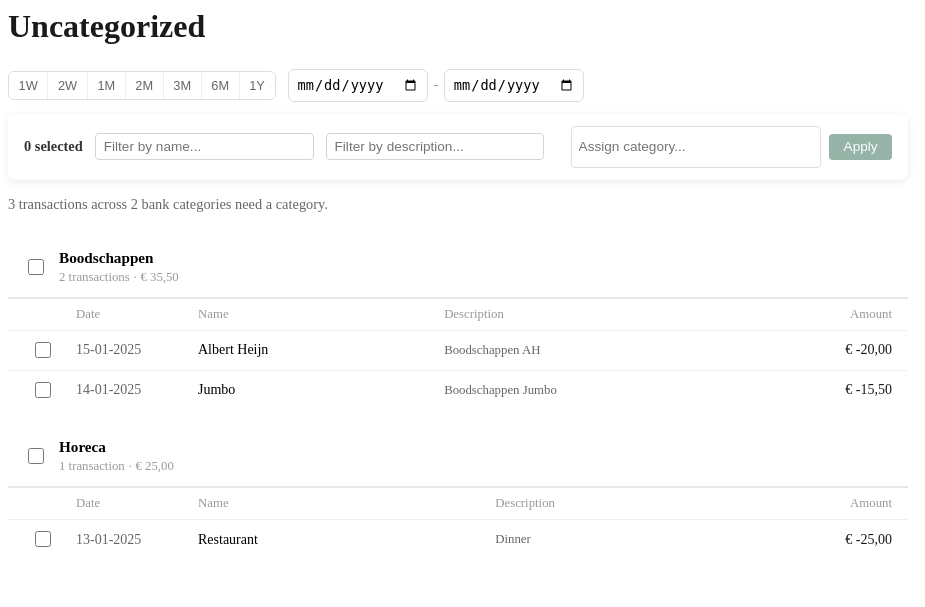
Test: Bank category mapping › does not show the mapping checkbox when selection spans multiple groups
The image size is (925, 607).
Expected: the text "Albert Heijn" is shown, left=182, top=330, right=428, bottom=370
Click the checkbox next to "2 transactions · € 35,50": x=36, y=267 left=28, top=259, right=44, bottom=275
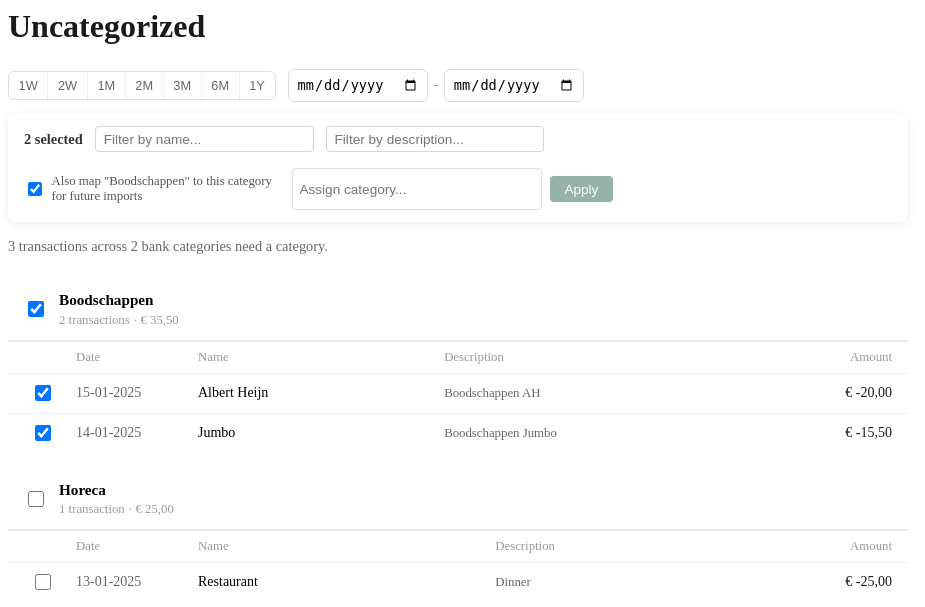
Click the checkbox next to "Horeca": x=36, y=499 left=28, top=491, right=44, bottom=507
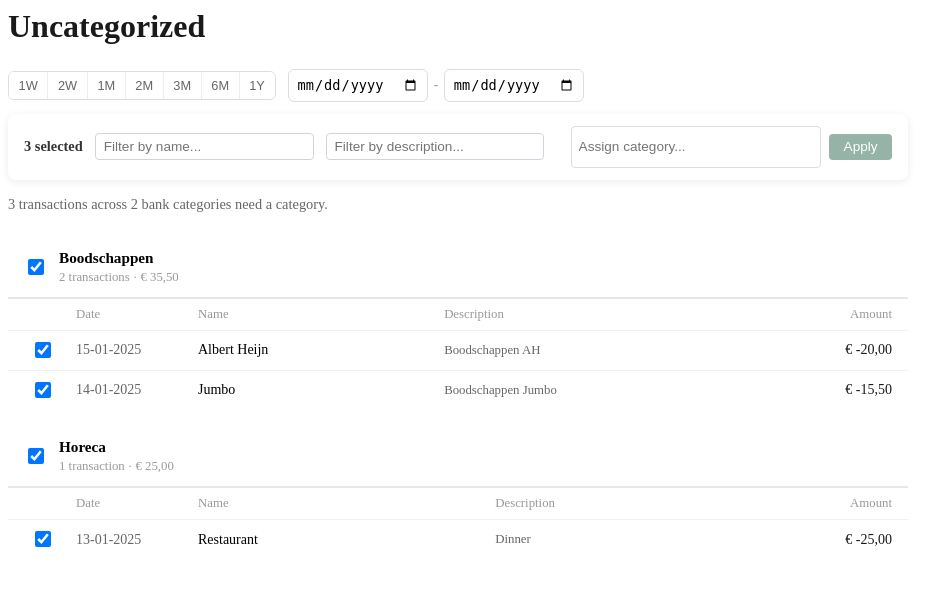
Expected: the label labelled "Also map \"Boodschappen\" to this category for future imports" is gone
